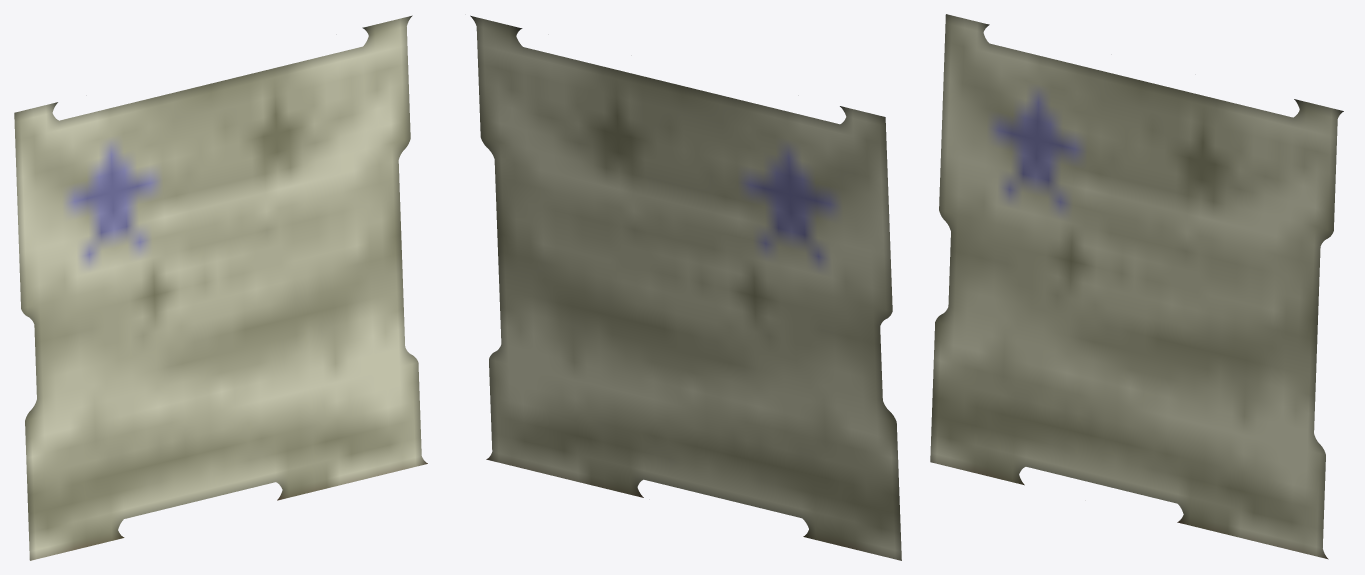
3 views of the same model, side by side, from view 1: azimuth 30°, elevation 25°; view 2: azimuth 150°, elevation 25°; view 3: azimuth 330°, elevation 25° (orthographic). The views are drawn at different scales.
Visible parts, largest first — view 1: T1L2M002_5; view 2: T1L2M002_5; view 3: T1L2M002_5.
Boxes of the visible parts, box(x1,y1,x2,y2) form: T1L2M002_5: box(14, 15, 427, 560); T1L2M002_5: box(470, 15, 901, 560); T1L2M002_5: box(930, 14, 1343, 559).
Size of the model in its own units: 0.6006 by 0.6191 by 0.04.
